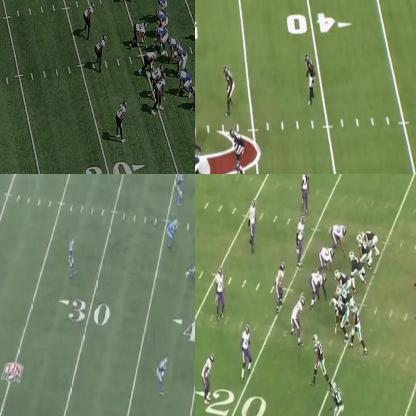CENTER: (155, 24, 167, 50), (336, 270, 348, 290)
DB: (215, 267, 227, 321), (295, 174, 312, 208), (241, 325, 252, 376), (203, 354, 214, 402), (116, 100, 127, 141), (250, 199, 257, 253), (308, 52, 315, 102), (68, 238, 75, 273)
LB: (272, 262, 284, 314), (224, 64, 236, 113), (230, 126, 245, 164), (84, 2, 94, 40), (95, 36, 106, 68), (156, 75, 165, 113), (297, 218, 304, 262), (235, 155, 251, 173), (168, 218, 178, 244), (177, 174, 183, 200)
SKILL: (351, 306, 366, 352), (314, 336, 325, 382), (365, 228, 380, 256), (157, 356, 168, 394), (332, 384, 345, 415), (176, 68, 190, 96)
